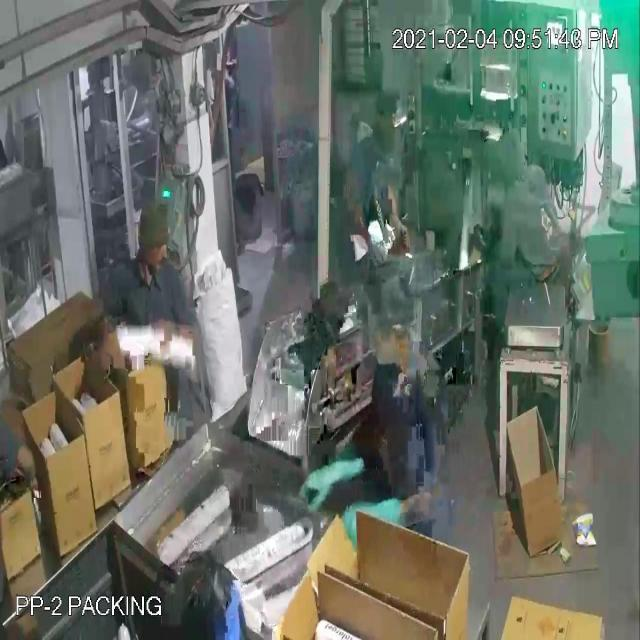Gloves: (36, 61, 374, 521)
